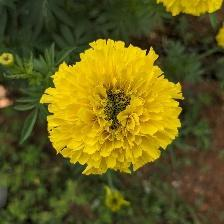marigold: (41, 39, 193, 177)
